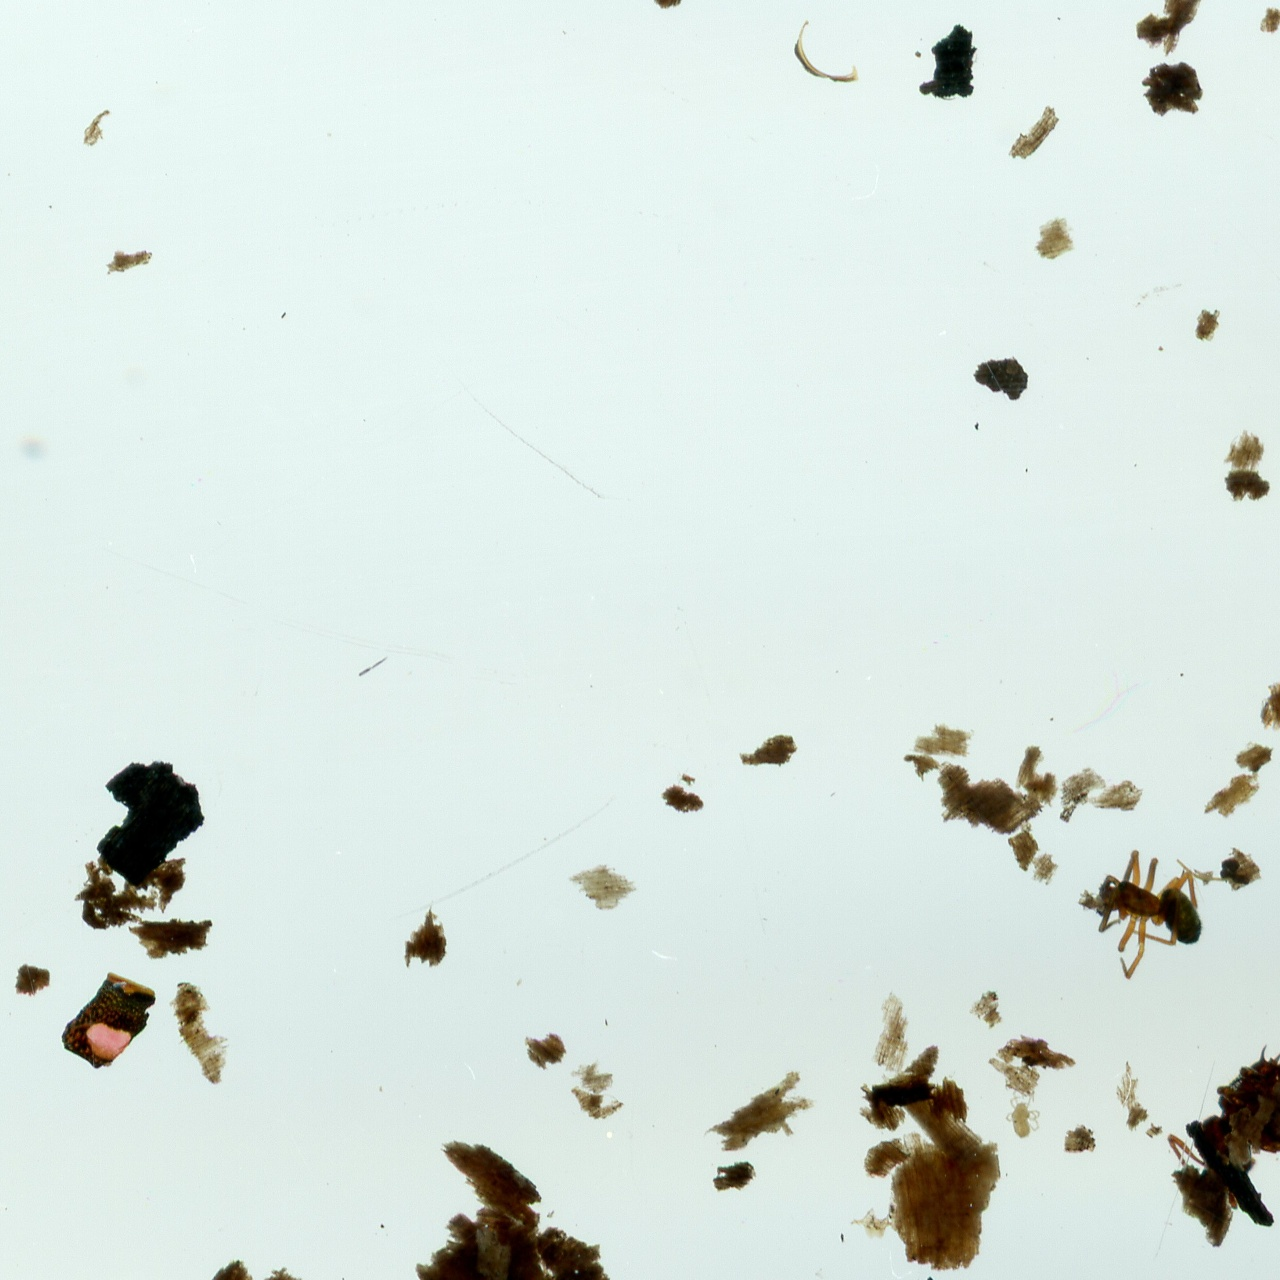arthropod: (1095, 845, 1211, 982), (1208, 1039, 1280, 1165), (1005, 1088, 1041, 1141)
